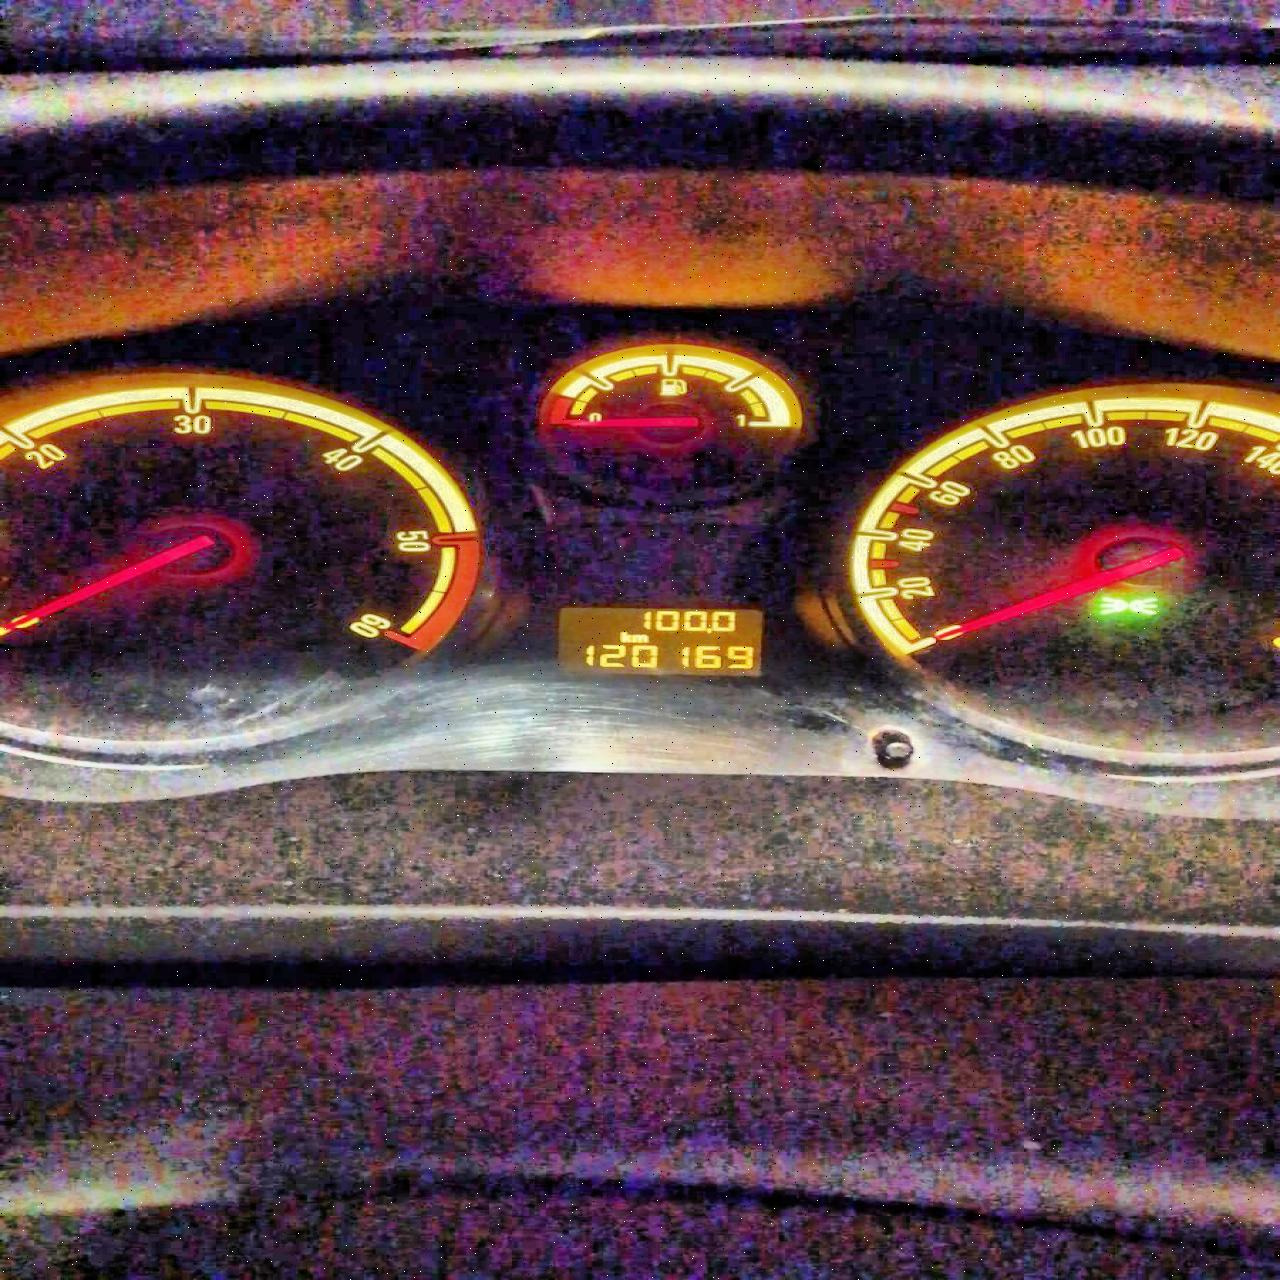-: (704, 627, 713, 633)
0: (629, 644, 658, 667), (681, 611, 707, 632), (710, 611, 734, 632), (654, 611, 679, 631)
1: (584, 645, 594, 666), (641, 611, 652, 629), (680, 646, 688, 667)
2: (598, 644, 626, 666)
6: (693, 645, 720, 668)
9: (726, 646, 753, 668)
X: (619, 631, 632, 642), (632, 633, 647, 641)
odometer: (553, 605, 767, 675)
